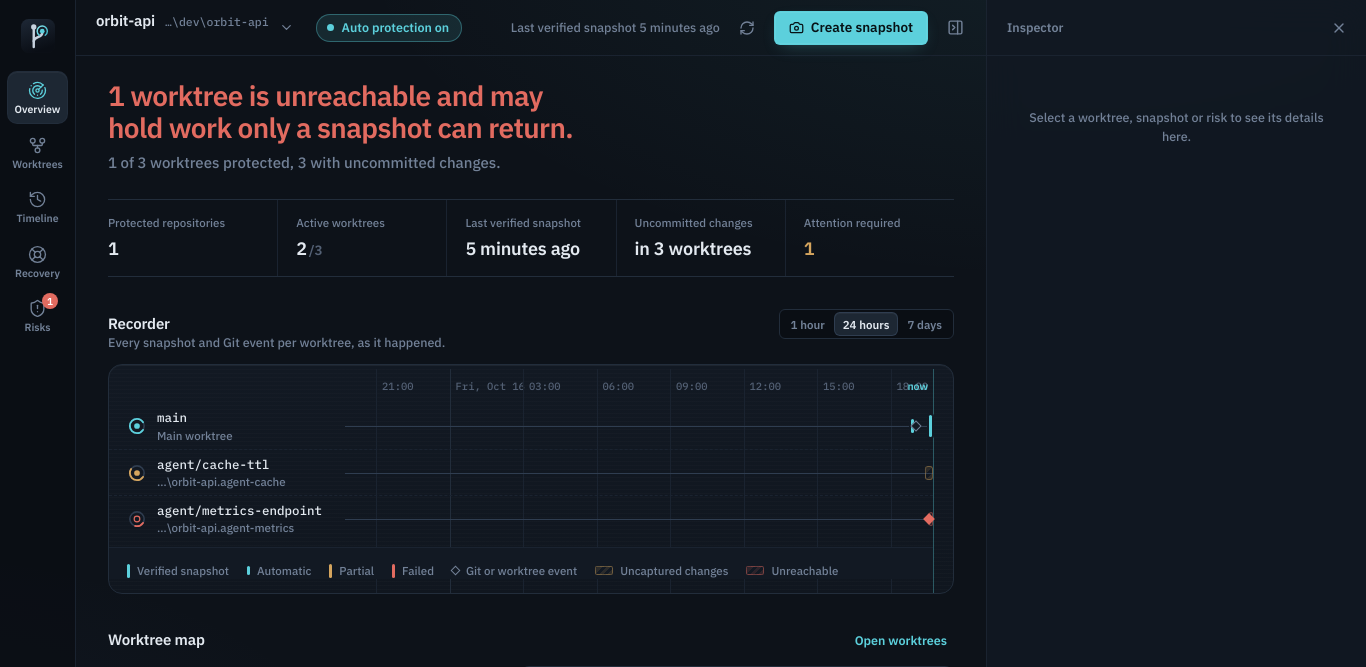
Scenario: shell & overview › navigates with the rail to worktrees and risks
This screenshot has width=1366, height=667.
Check: the heading "worktree is unreachable" is shown, box x1=108 y1=77 x2=573 y2=146
Click the button "Worktrees" at (38, 152), box x1=8 y1=127 x2=67 y2=177
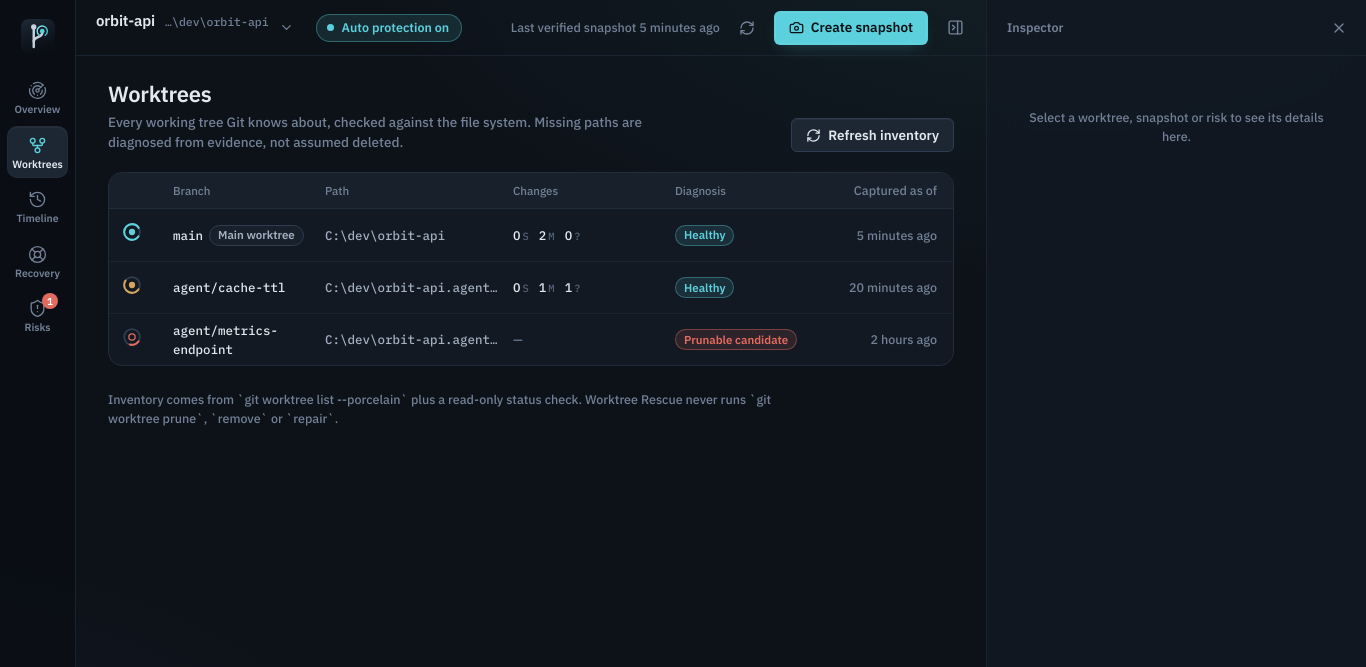
Check: the text "agent/cache-ttl" is shown, box x1=173 y1=278 x2=286 y2=297
Check: the text "Prunable candidate" is shown, box x1=675 y1=329 x2=797 y2=350
Click the button "1 Risks" at (38, 316), box x1=8 y1=290 x2=67 y2=341
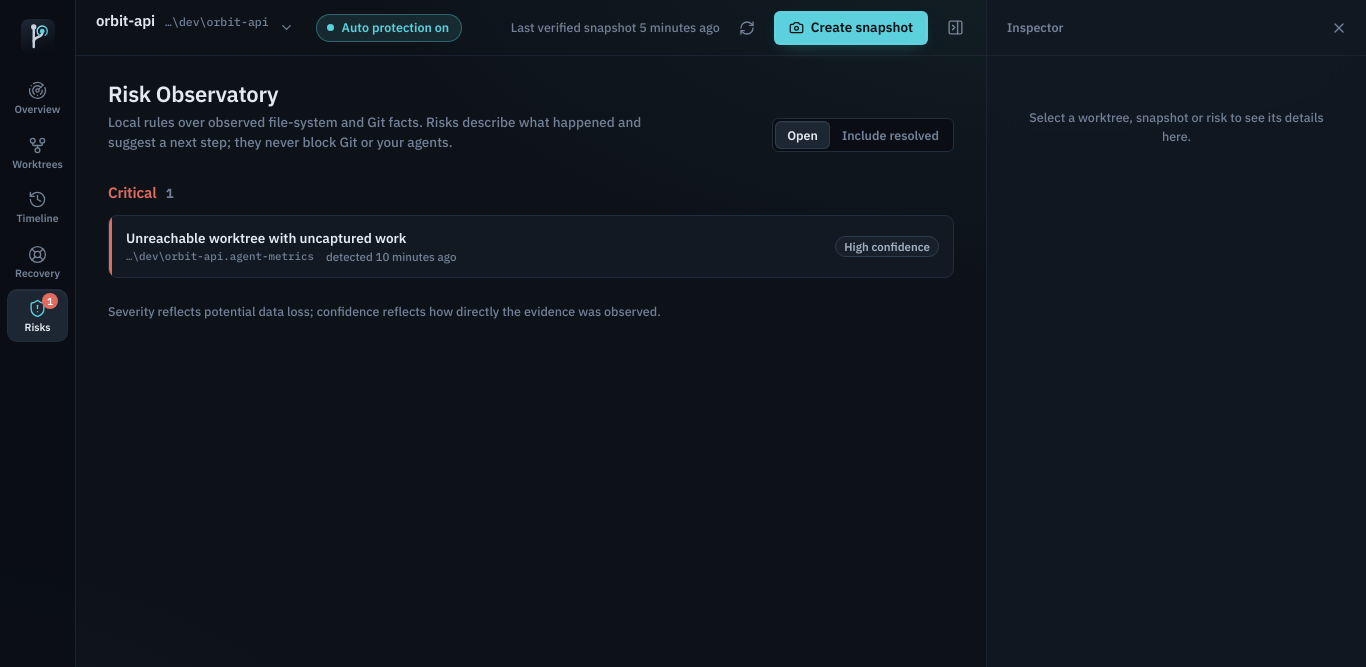
Check: the heading "Risk Observatory" is shown, box x1=108 y1=79 x2=278 y2=108
